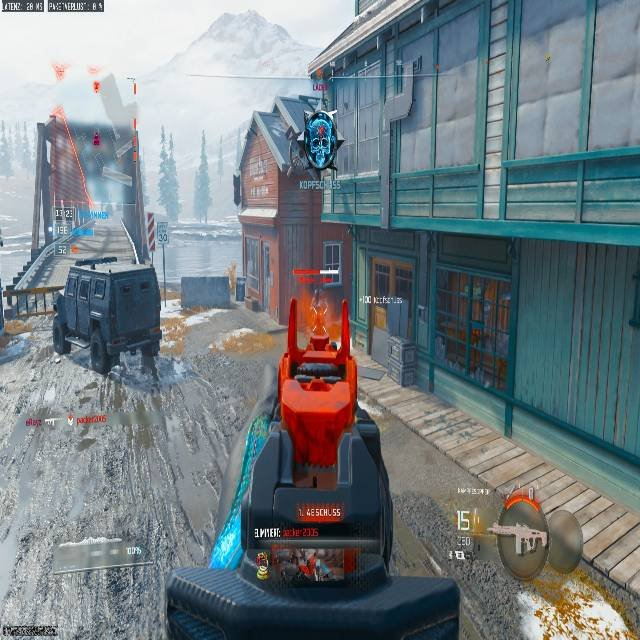player: (300, 107, 339, 180)
